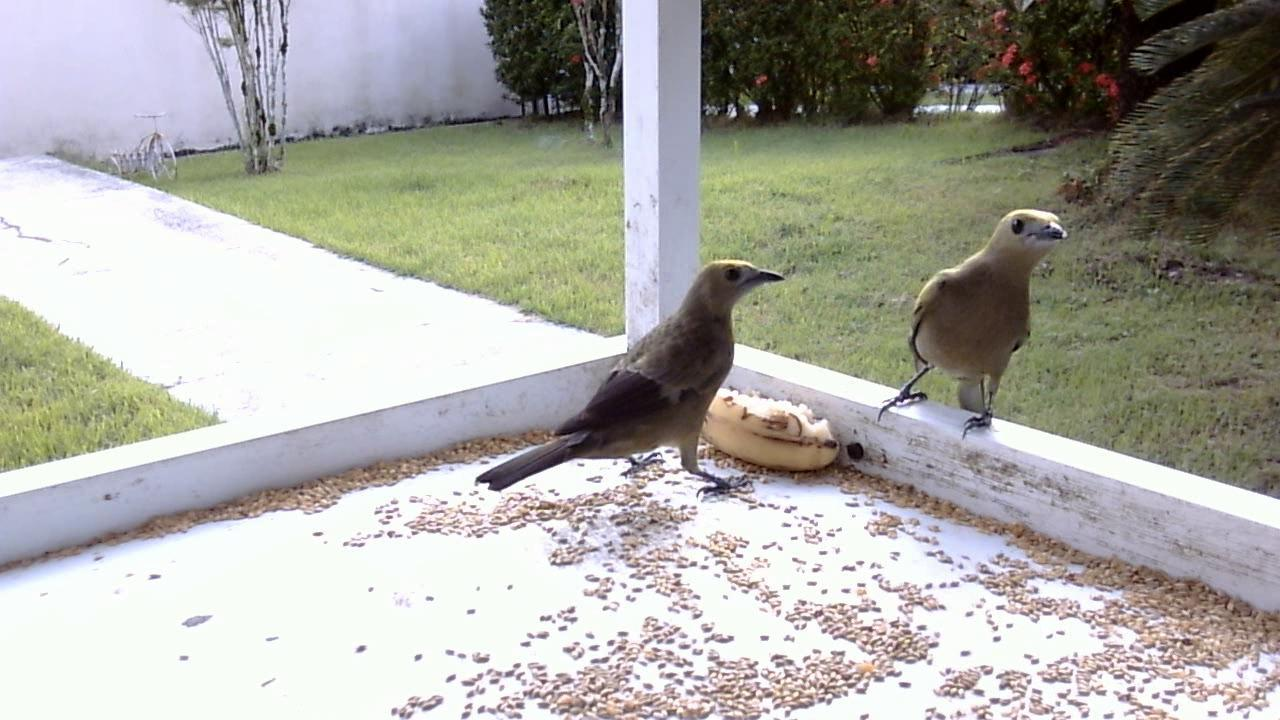sanhaco_do_coqueiro: (468, 261, 788, 508), (871, 198, 1073, 442)
